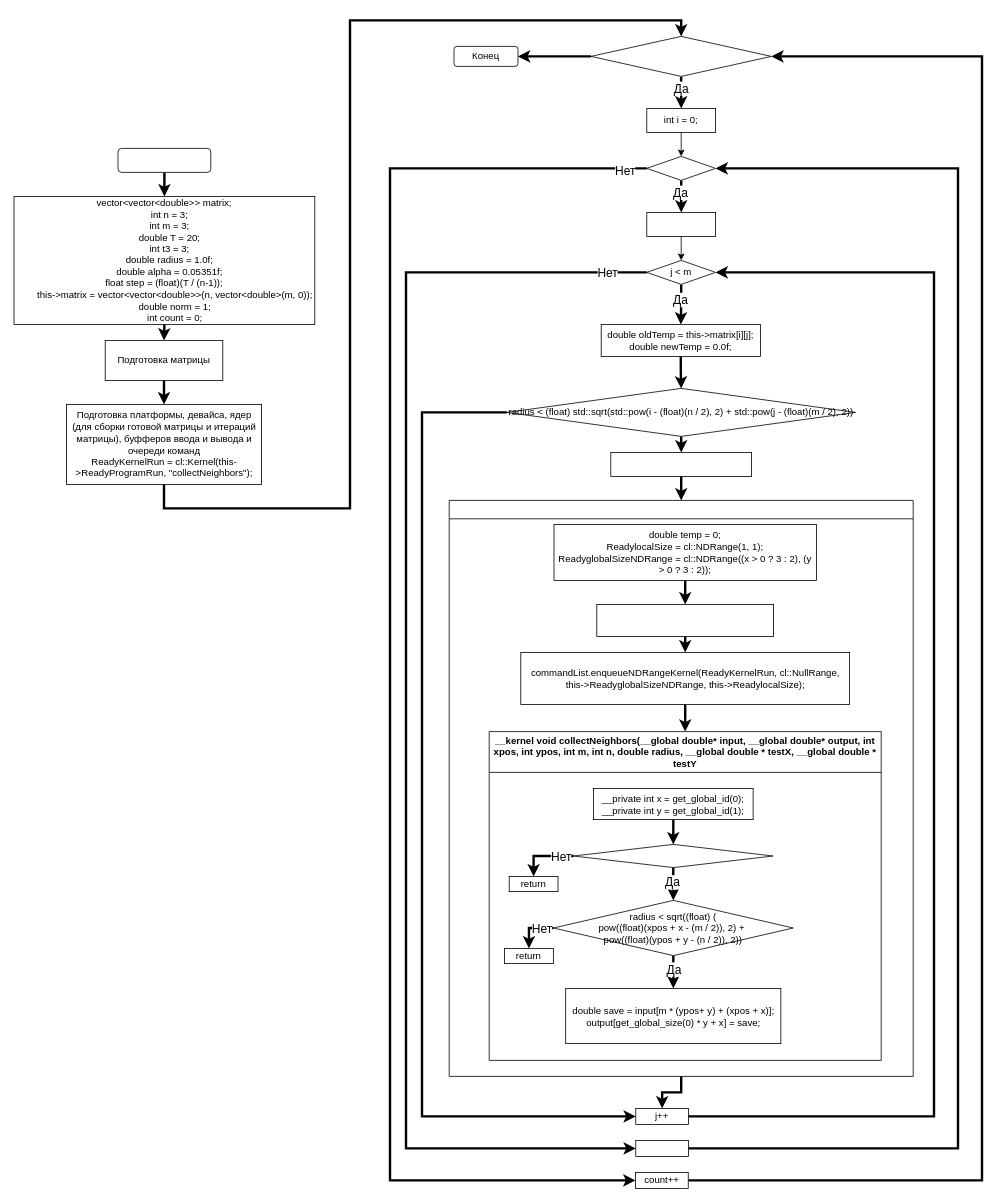
This 1003x1202 diagram has some shape labels left out. The box of each missing label's shape, as (x1, y1, x2, y2) in pixels:
float newTemp = valueGet(j, i);: (610, 452, 752, 476)
i < n: (646, 156, 716, 180)
i++: (635, 1140, 689, 1156)
int j = 0;: (646, 212, 716, 236)
norm > eps && count < maxIteration: (590, 36, 771, 76)
valueGet(int x, int y): (448, 500, 913, 1076)
x+xpos >= m || y+ypos >= n: (573, 844, 773, 868)
Начало: (117, 148, 211, 172)
Создание и подготовка буферов ввода и вывода, аргументов ядра: (596, 604, 774, 636)
